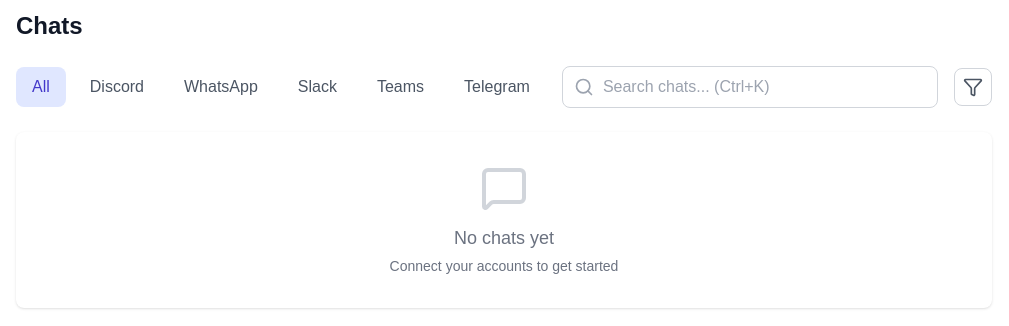
Test: ChatsPage UX › clears search and focuses input when clear button is clicked
The width and height of the screenshot is (1009, 326).
// Type something
Step 1. Type "test query" into the field labelled "Search chats" → (750, 87), box [562, 66, 938, 108]
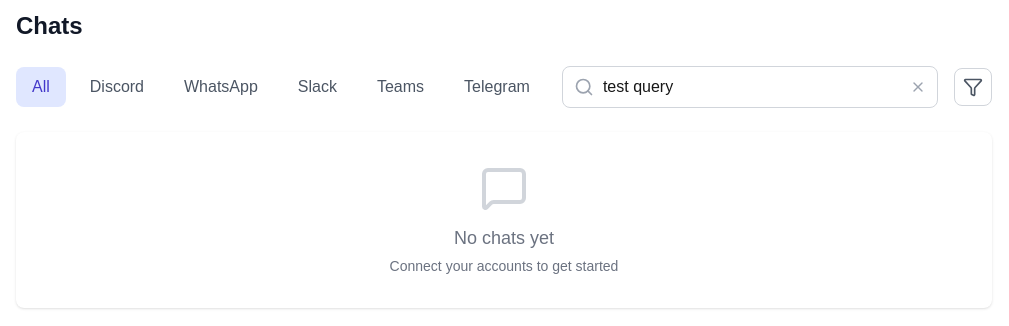
Result: the button named "Clear search" is shown
// Click clear
Step 2. Click the button named "Clear search" → click(918, 87), box [906, 75, 930, 99]
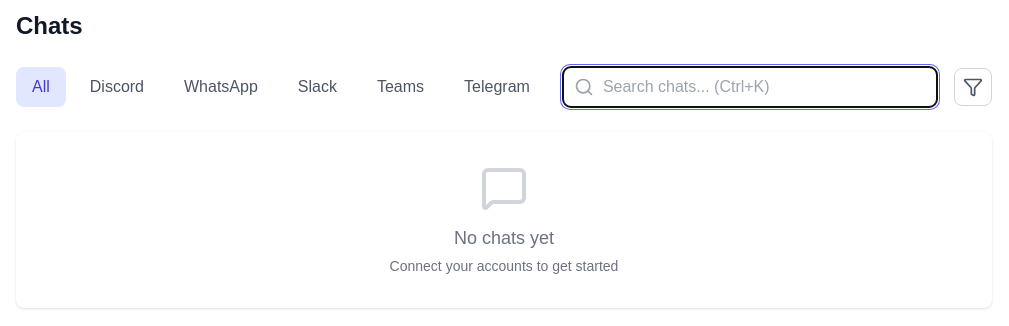
Result: the field labelled "Search chats" is empty at [562, 66, 938, 108]
